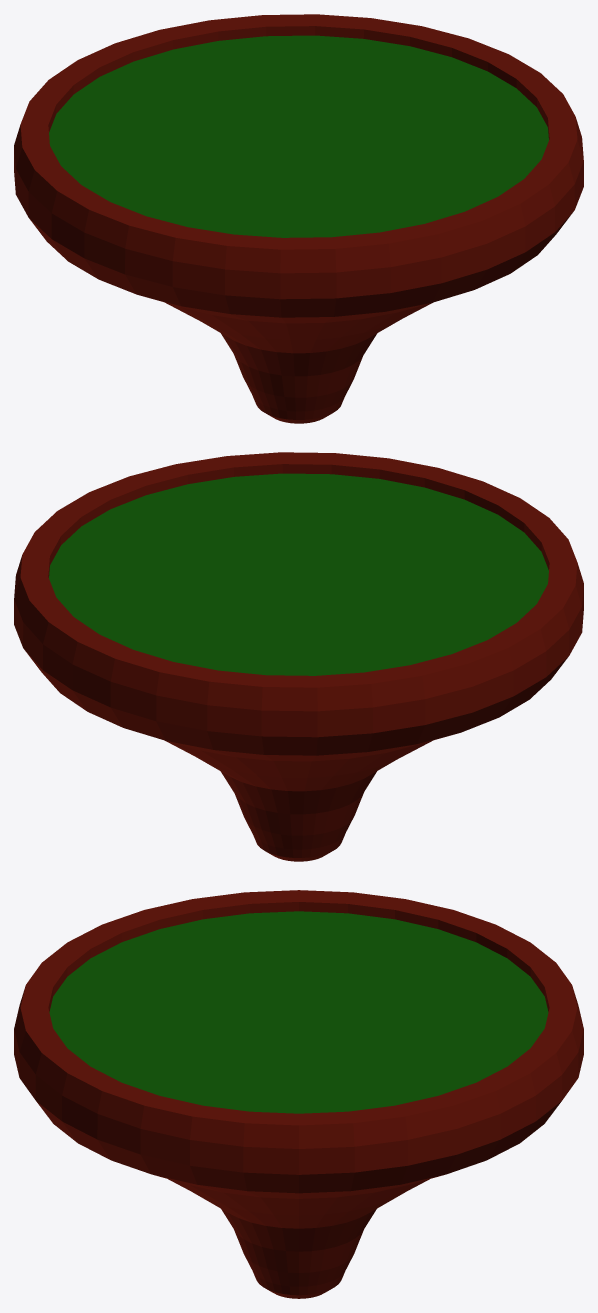
The model's file is MesaCasino.fbx.
The picture shows the model from 3 angles, top to bottom: view 1: azimuth 30°, elevation 25°; view 2: azimuth 150°, elevation 25°; view 3: azimuth 270°, elevation 25°; orthographic projection.
Parts seen in each view (by area): view 1: Circle; view 2: Circle; view 3: Circle.
Boxes of the visible parts, x1=… form: Circle: x1=14, y1=14, x2=583, y2=423; Circle: x1=14, y1=452, x2=583, y2=861; Circle: x1=14, y1=890, x2=583, y2=1298.
Size of the model in its own units: 1452 by 782 by 1452.
